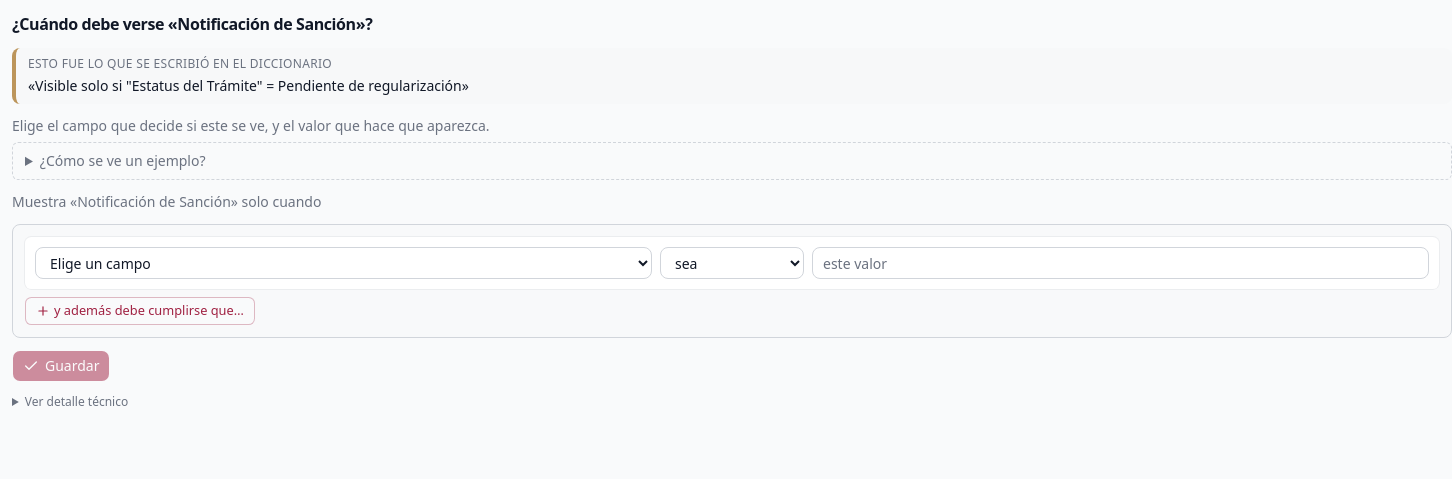
Test: la frase de confirmacion nombra el campo en vez de decir «el campo»
Select "Estatus del Trámite" in the dropdown named "campo de la condición 1": (344,263) x1=35 y1=247 x2=652 y2=279
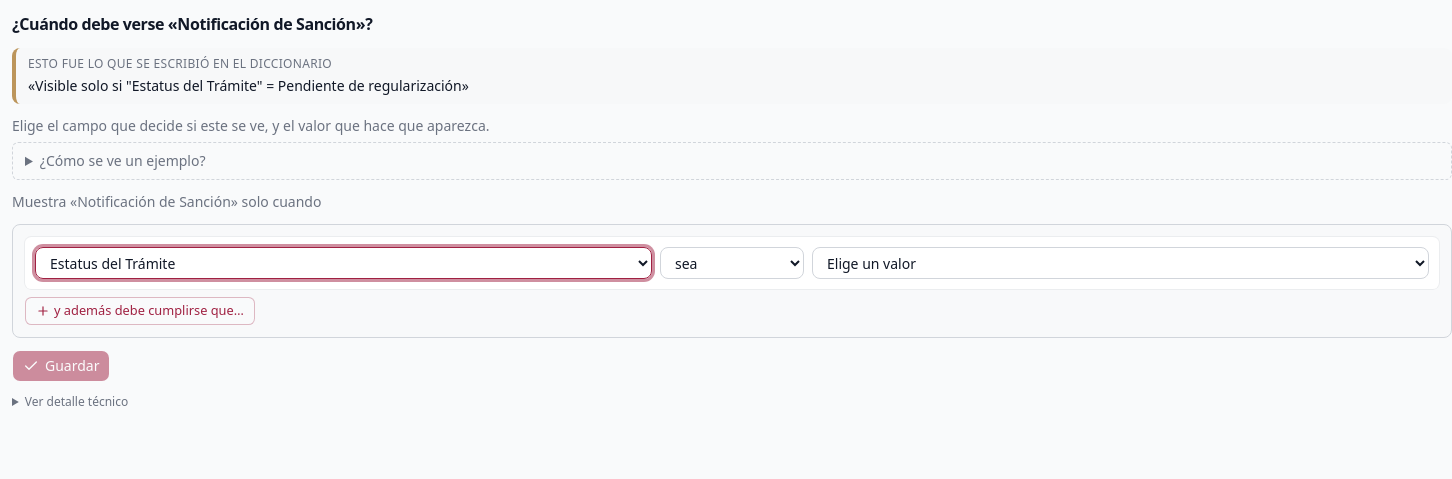
Select "Pendiente de regularización" in the dropdown named "valor de la condición 1": (1120,263) x1=812 y1=247 x2=1429 y2=279
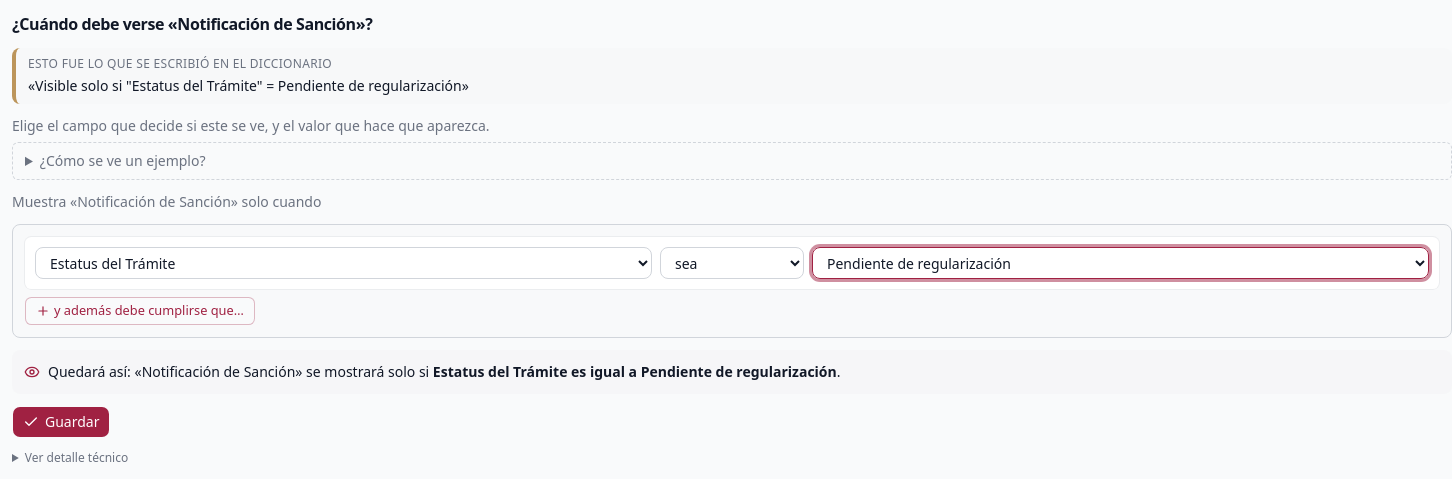
Result: the text "«Notificación de Sanción» se mostrará solo si" is shown at x1=48 y1=362 x2=840 y2=382
